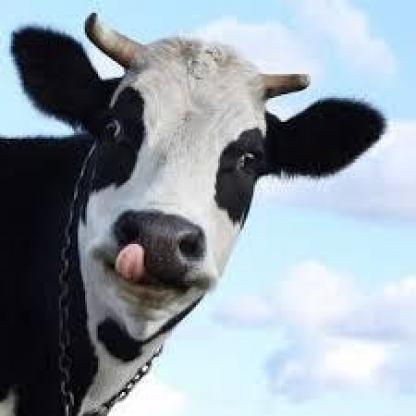cow: (2, 11, 388, 416)
